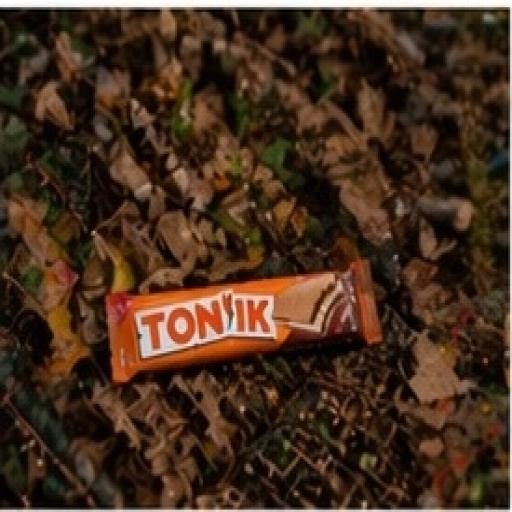tonik: (83, 200, 428, 428)
